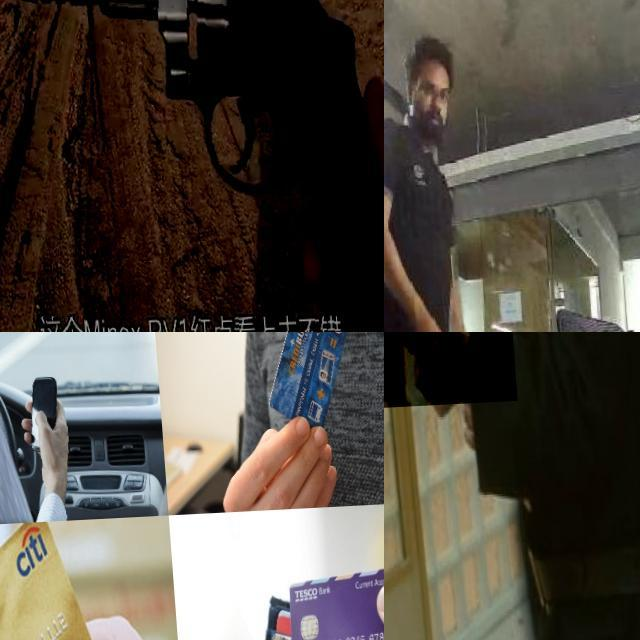gun-knife-thesis - v11 Yolov5 augmented: (0, 0, 384, 332), (384, 332, 512, 422)
